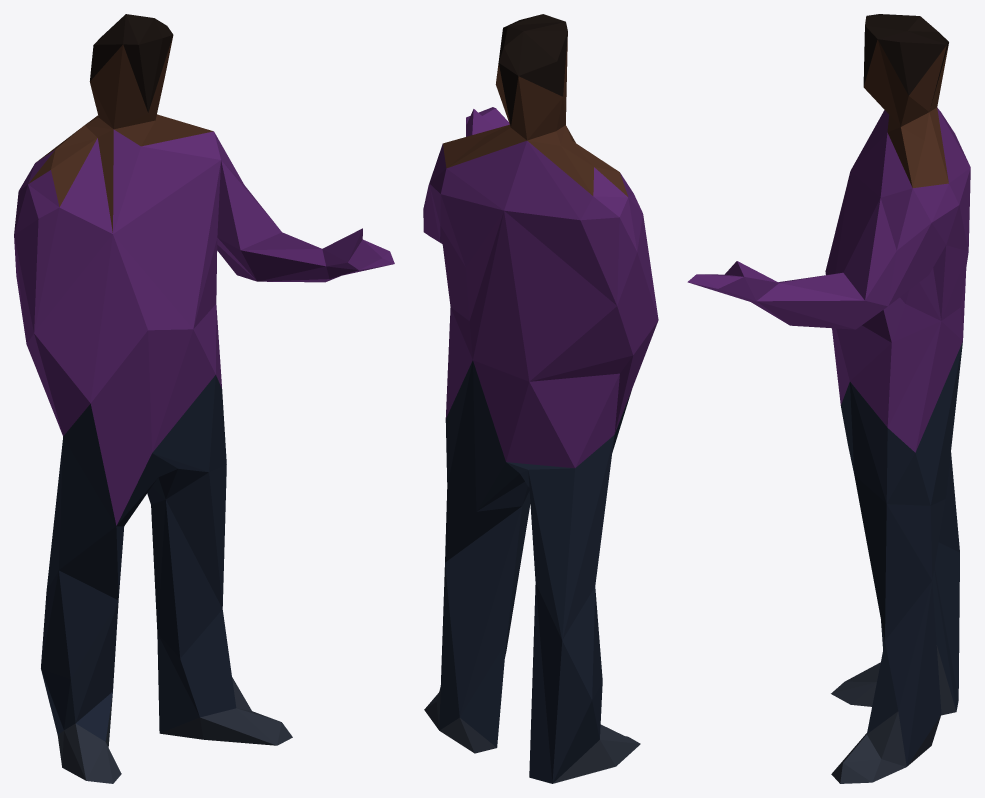
File: walker-23.glb
3 views of the same model, side by side, from view 1: azimuth 30°, elevation 25°; view 2: azimuth 150°, elevation 25°; view 3: azimuth 270°, elevation 25° (orthographic). The views are drawn at different scales.
Visible parts, largest first — view 1: Man01; view 2: Man01; view 3: Man01.
Part boxes in pixels (left/top/right/bottom): Man01: left=14, top=14, right=394, bottom=783; Man01: left=423, top=14, right=658, bottom=783; Man01: left=687, top=14, right=970, bottom=783.
Bounding box in the file's own units: 0.6402 × 1.62 × 0.5873.
